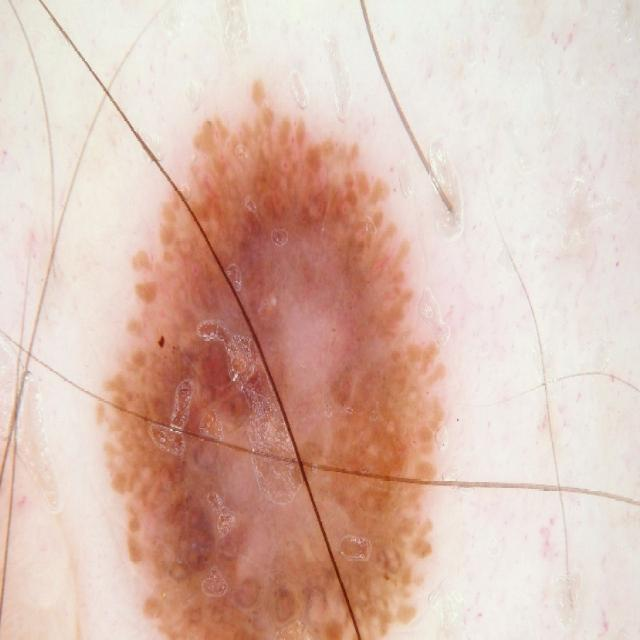Melanoma: (95, 112, 530, 640)
